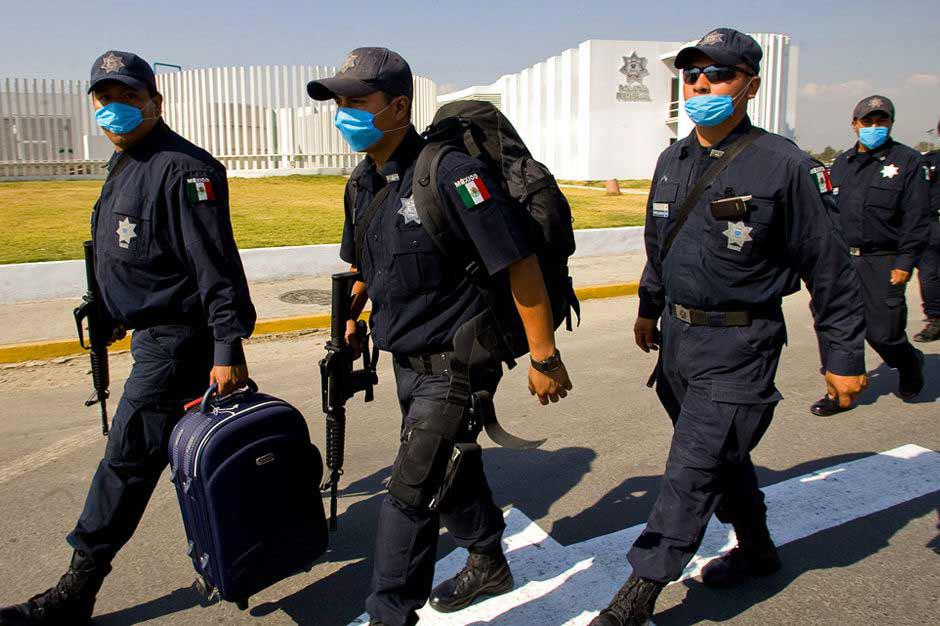mask: (331, 107, 412, 151), (81, 103, 166, 133), (681, 90, 740, 127), (848, 117, 888, 148)
